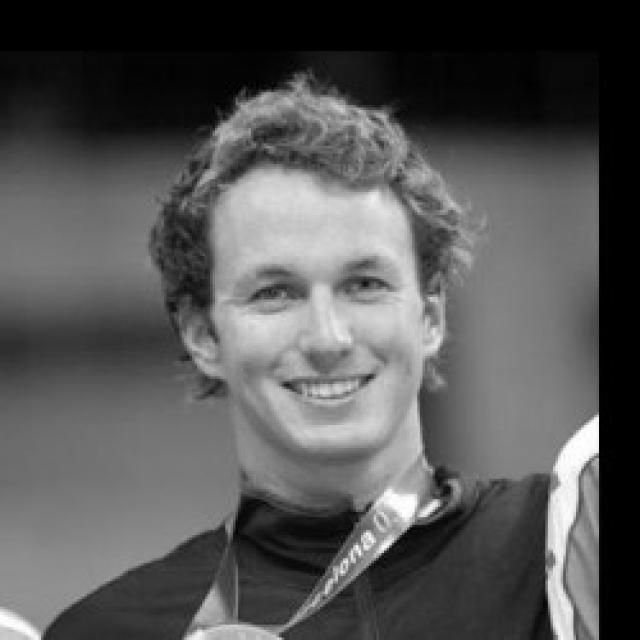real: (176, 94, 446, 461), (221, 254, 423, 314)
